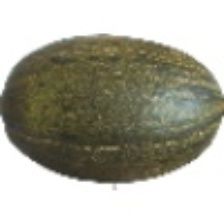honeydew: (0, 5, 201, 178)
